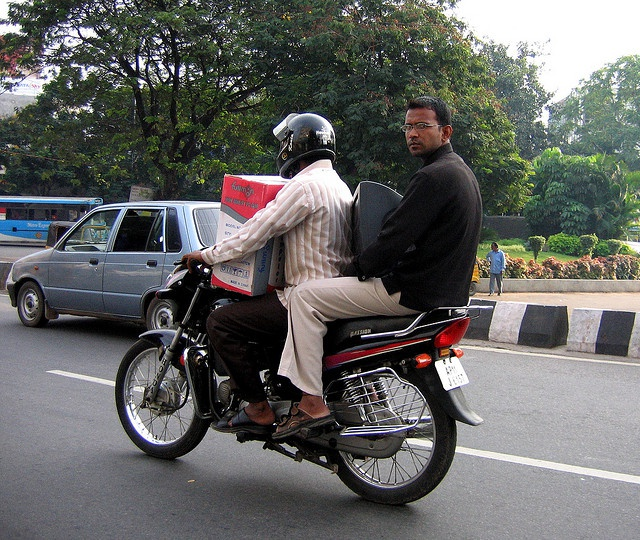non-vehicle: (115, 246, 483, 504), (469, 260, 482, 295)
